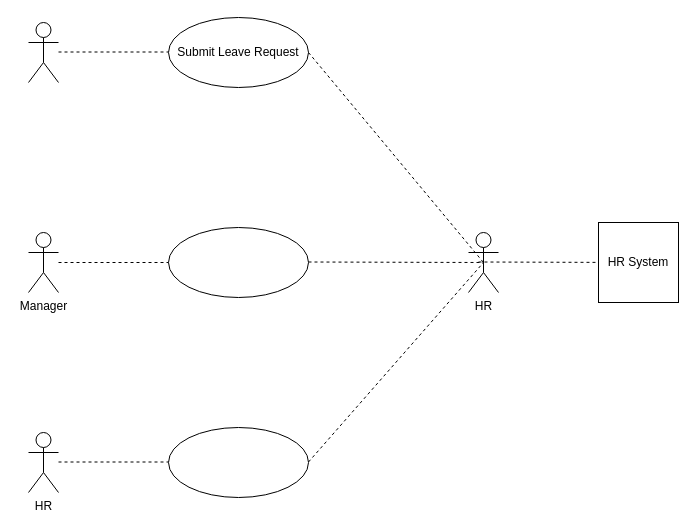
The diagram is 696 pixels wide and 531 high, and some of its shapes have lost their labels. The shapes that lost their labels are listed below. From the top down, each one's centre as x and y in pixels, then its label:
At (x=43, y=52): "Employee".
At (x=238, y=262): "Review Request".
At (x=238, y=462): "Approve and archive request".
